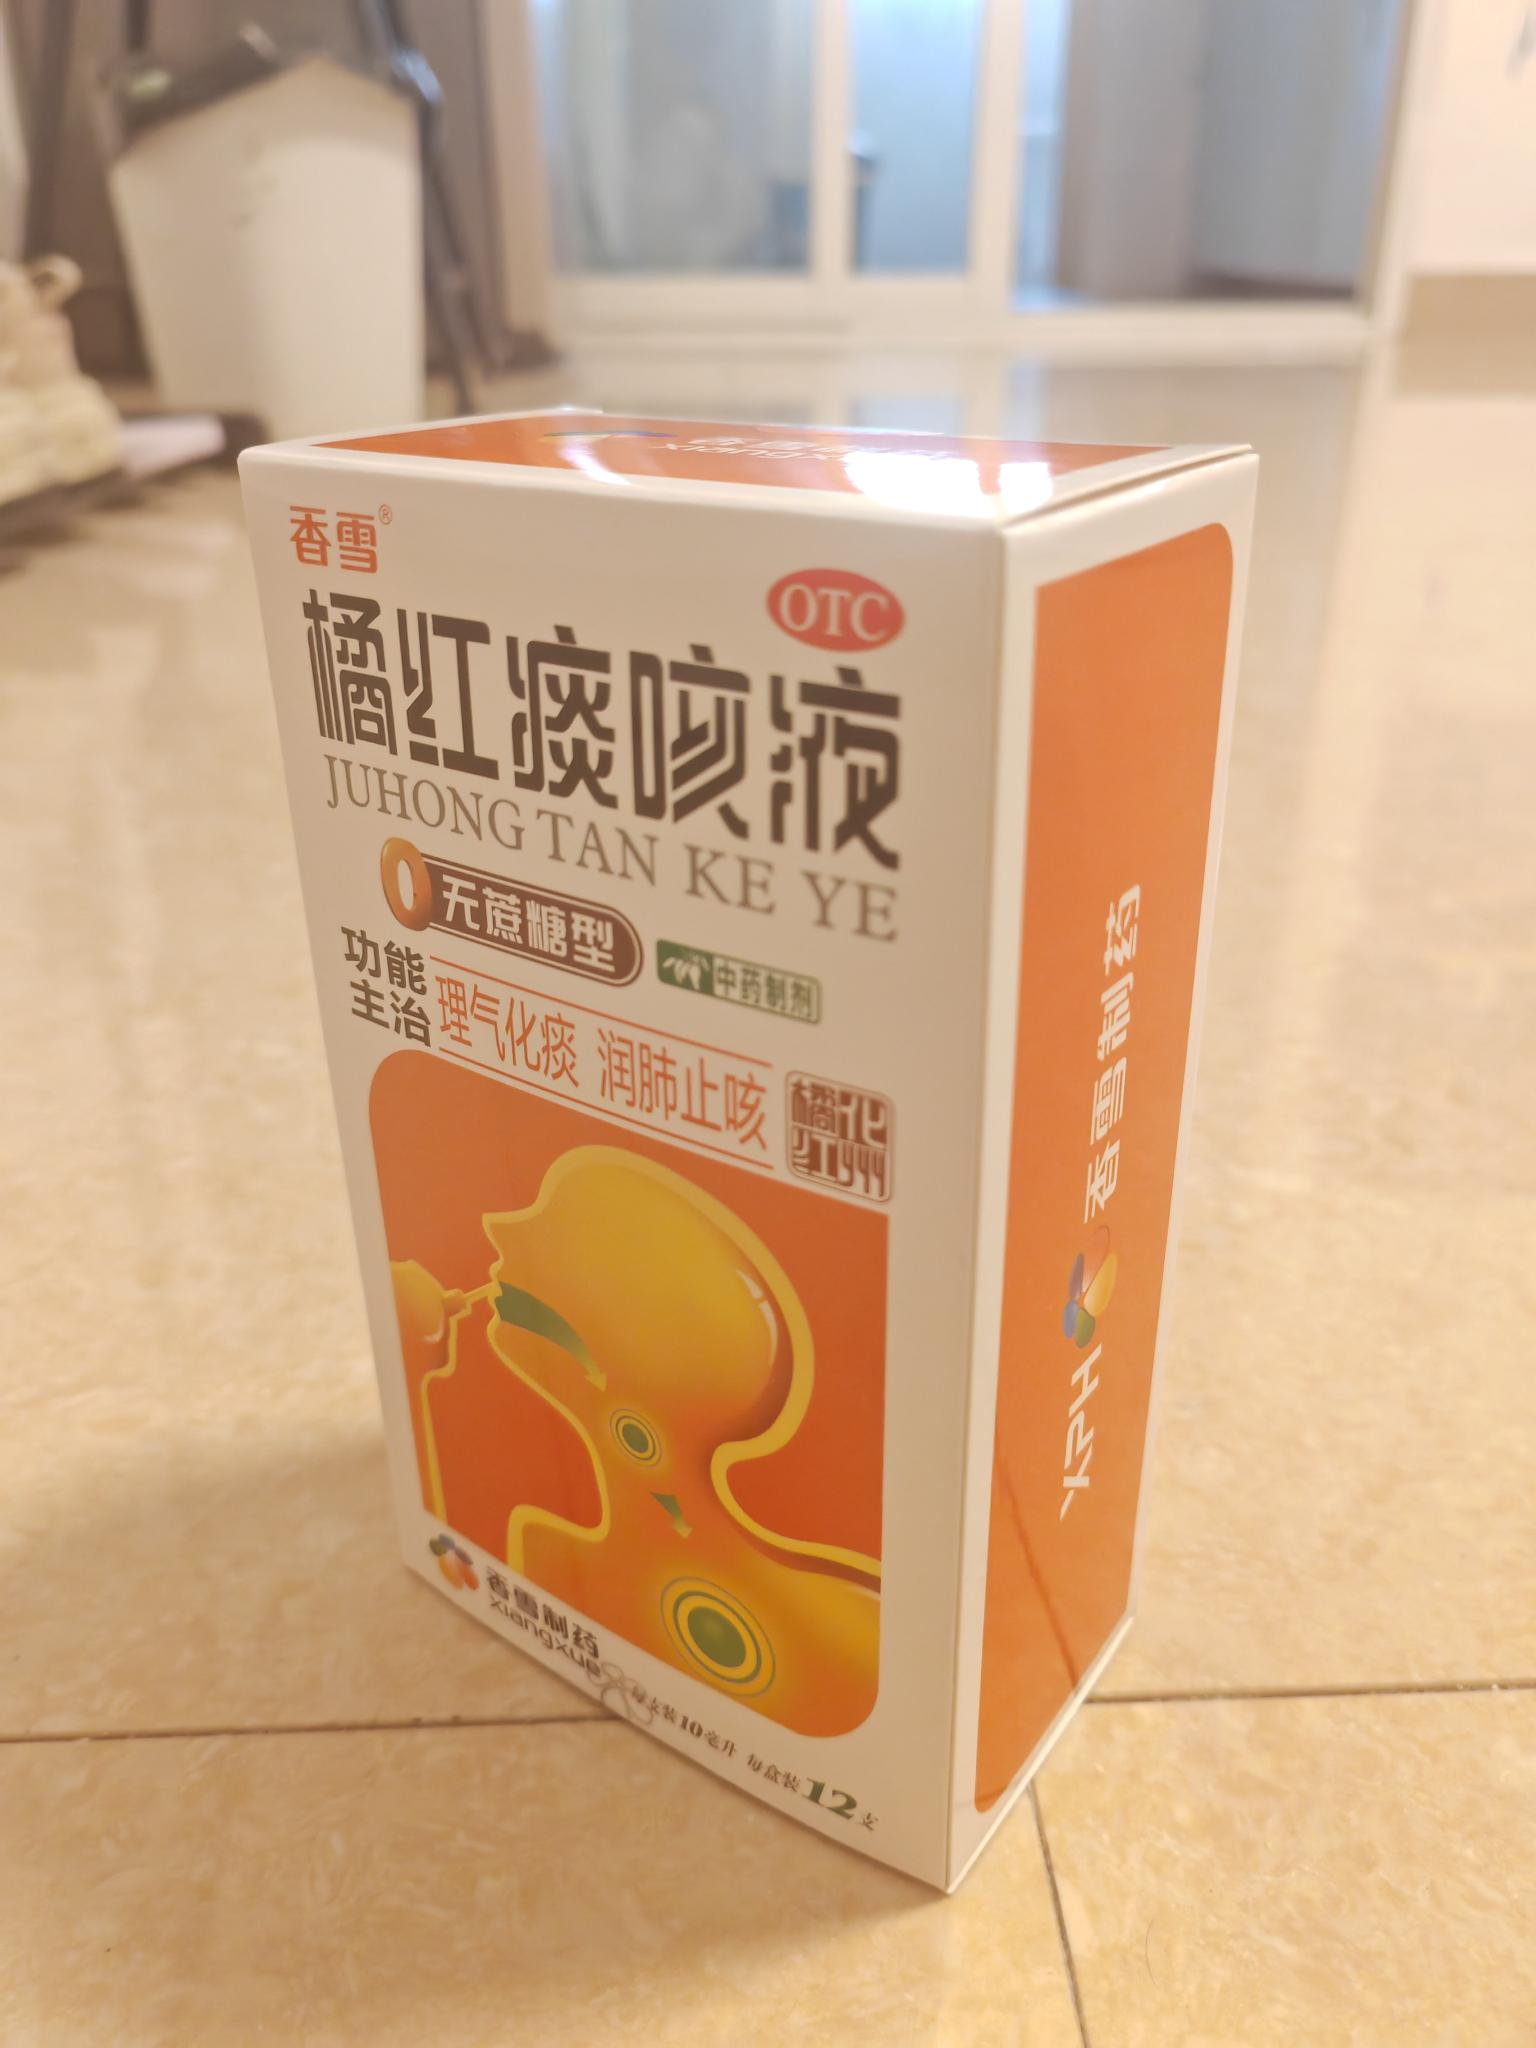Medicine1: (227, 385, 1276, 1913)
